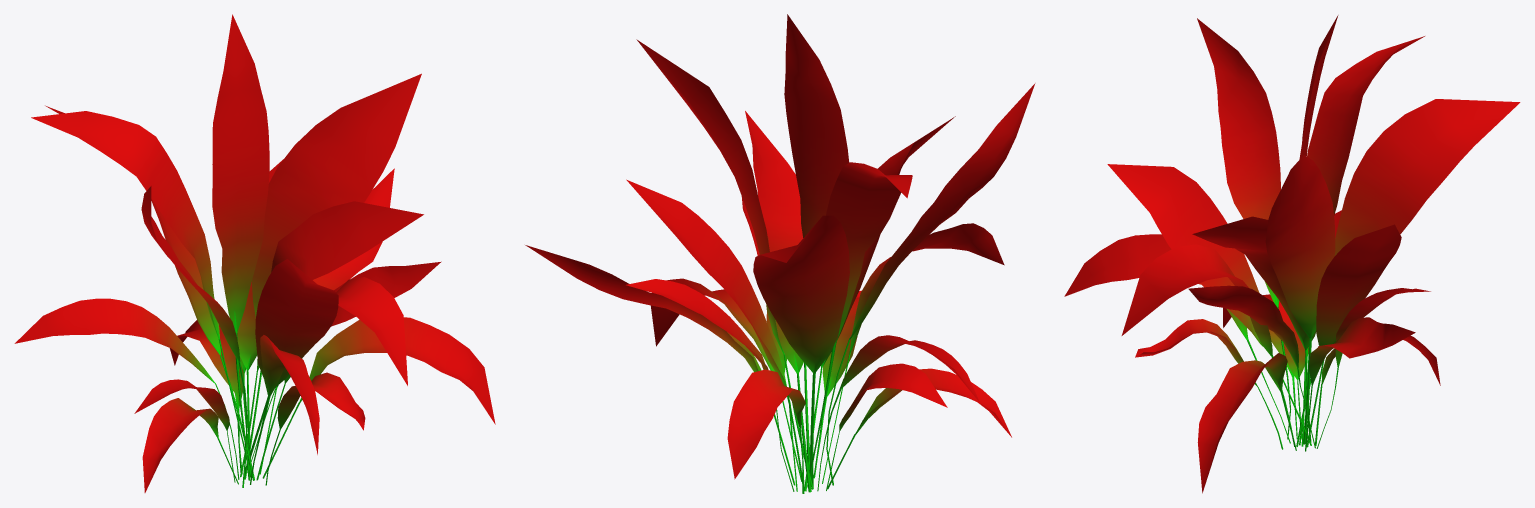
The model's file is Cast - Iron Plant_LOD0_Var4_shdmr.fbx.
3 views of the same model, side by side, from view 1: azimuth 30°, elevation 25°; view 2: azimuth 150°, elevation 25°; view 3: azimuth 270°, elevation 25° (orthographic). The views are drawn at different scales.
Parts seen in each view (by area): view 1: _a959_Var4_LOD0; view 2: _a959_Var4_LOD0; view 3: _a959_Var4_LOD0.
Part boxes in pixels (x1,y1,x2,y2): _a959_Var4_LOD0: [14, 14, 495, 492]; _a959_Var4_LOD0: [525, 14, 1035, 493]; _a959_Var4_LOD0: [1064, 15, 1520, 493].
Size of the model in its own units: 55.64 by 59.9 by 57.22.
